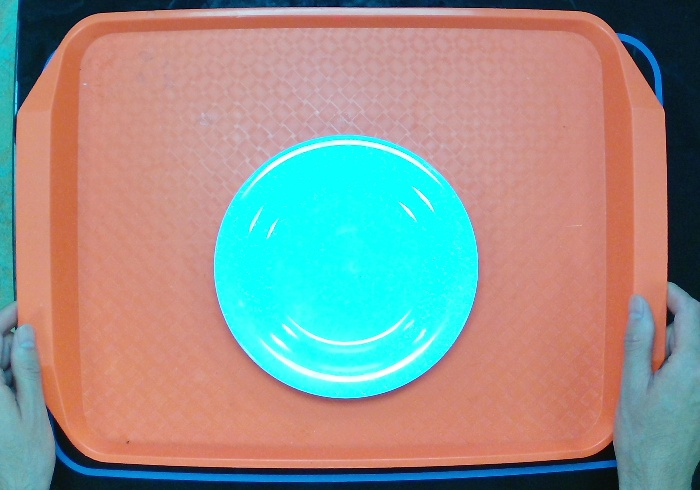RJxy-Yuan_Pan: (207, 132, 486, 405)
